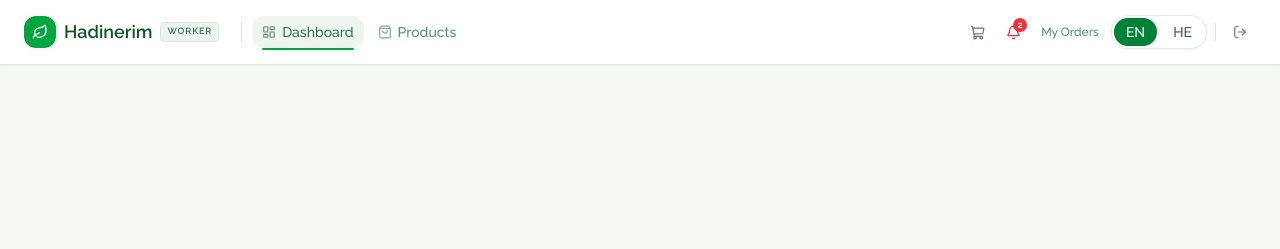
WorkerNavbar — bell / notification panel › shows unread count in panel header
The image size is (1280, 249).
Click the button named "task notifications" at (1013, 32), box top-left (997, 16), bottom-right (1029, 48)
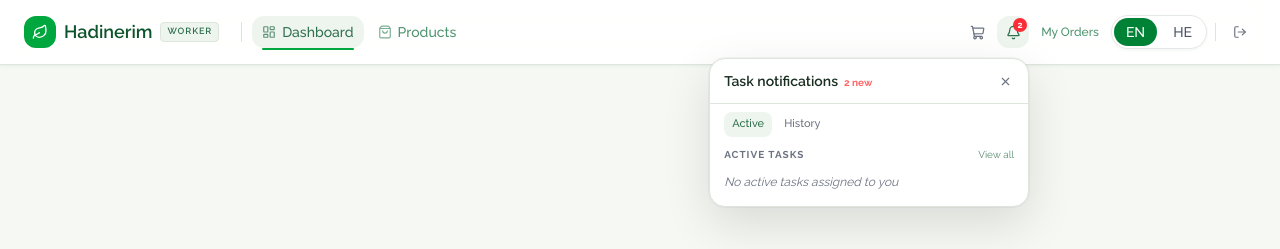
expect the text "2 new" is shown: met, box top-left (844, 77), bottom-right (872, 88)
